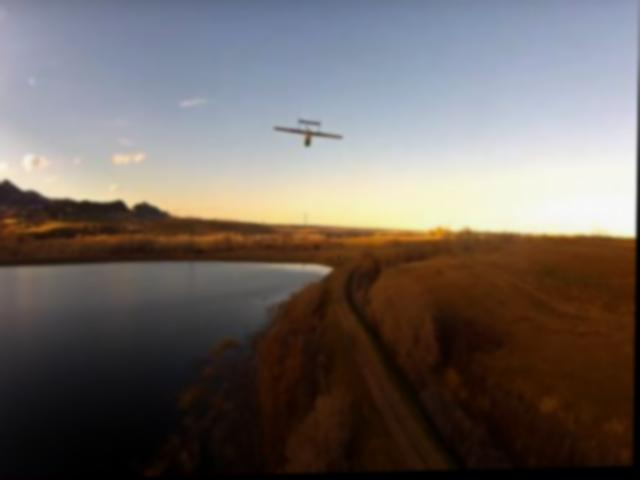uav: (274, 113, 343, 155)
